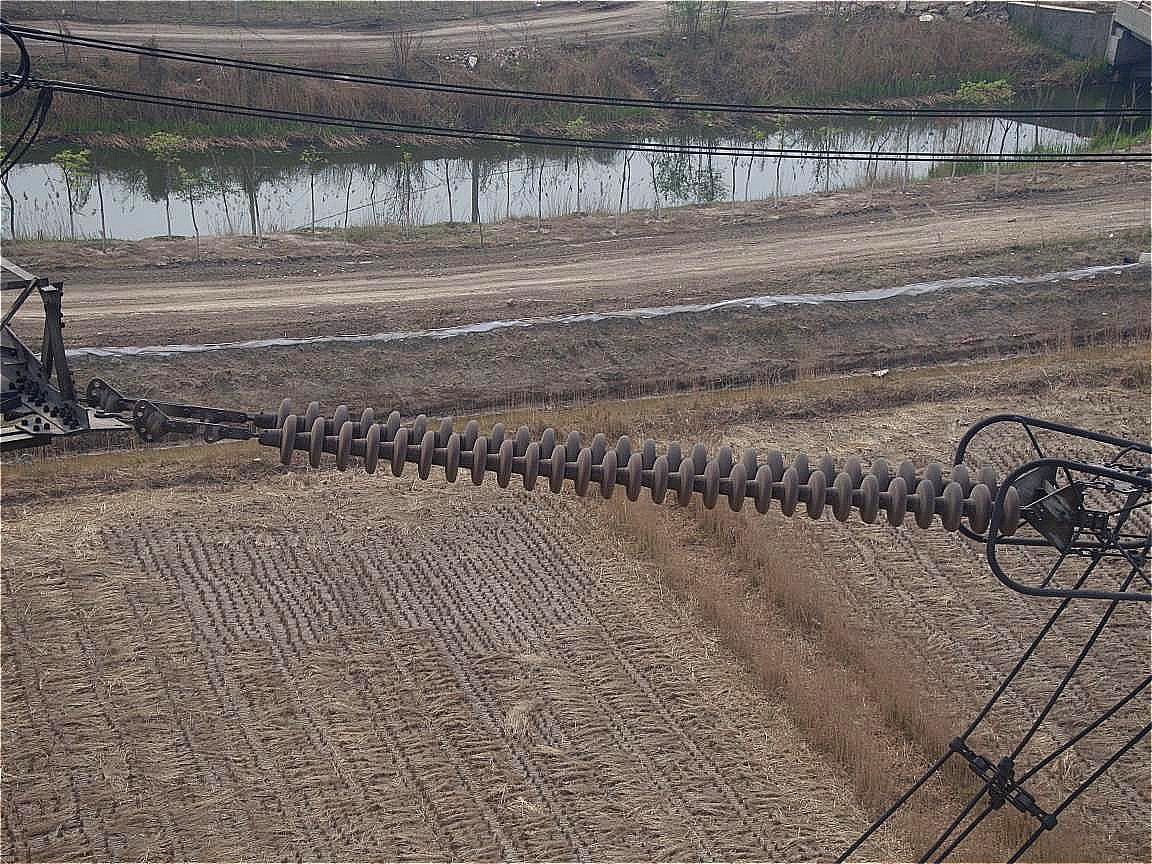insultor1: (231, 391, 1034, 549)
